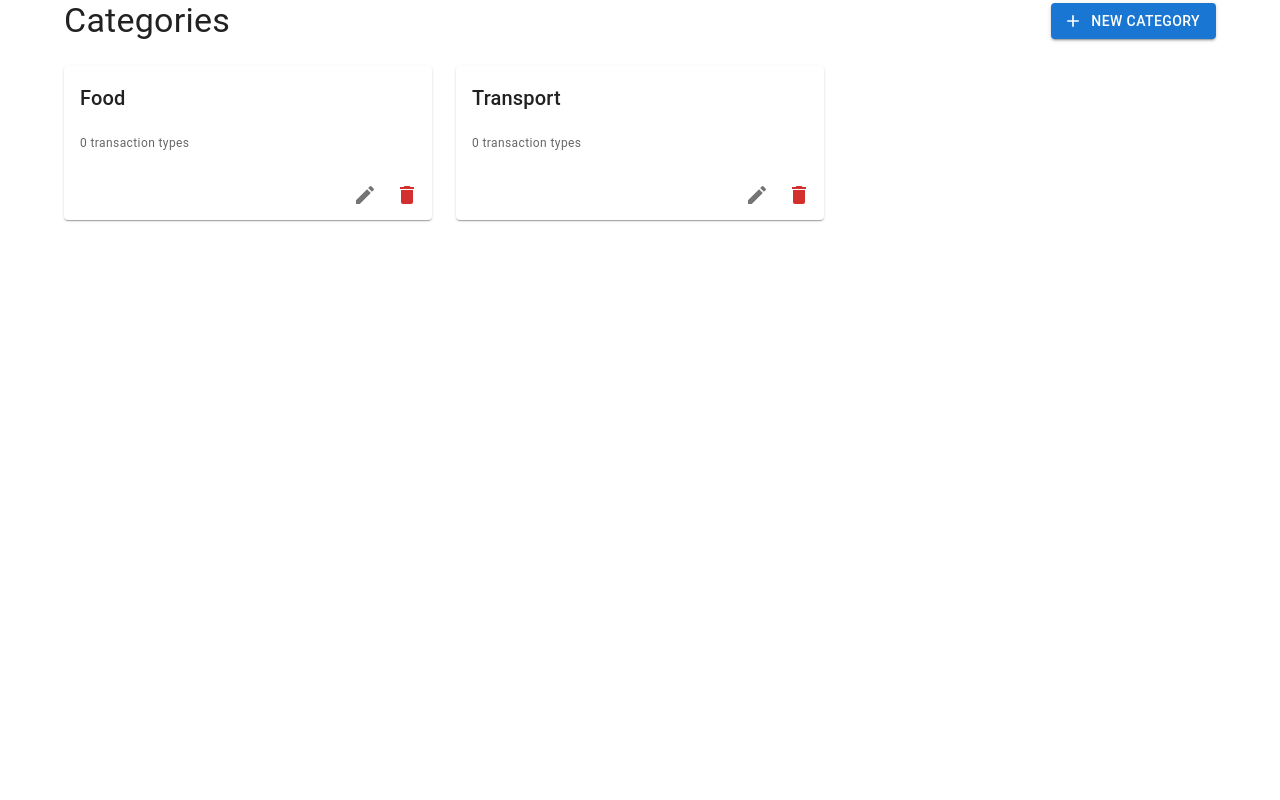
Test: CategoriesListPage › should open category dialog when New Category clicked
The width and height of the screenshot is (1280, 800).
Click the button "New Category" at (1134, 21), box [1051,3,1216,39]
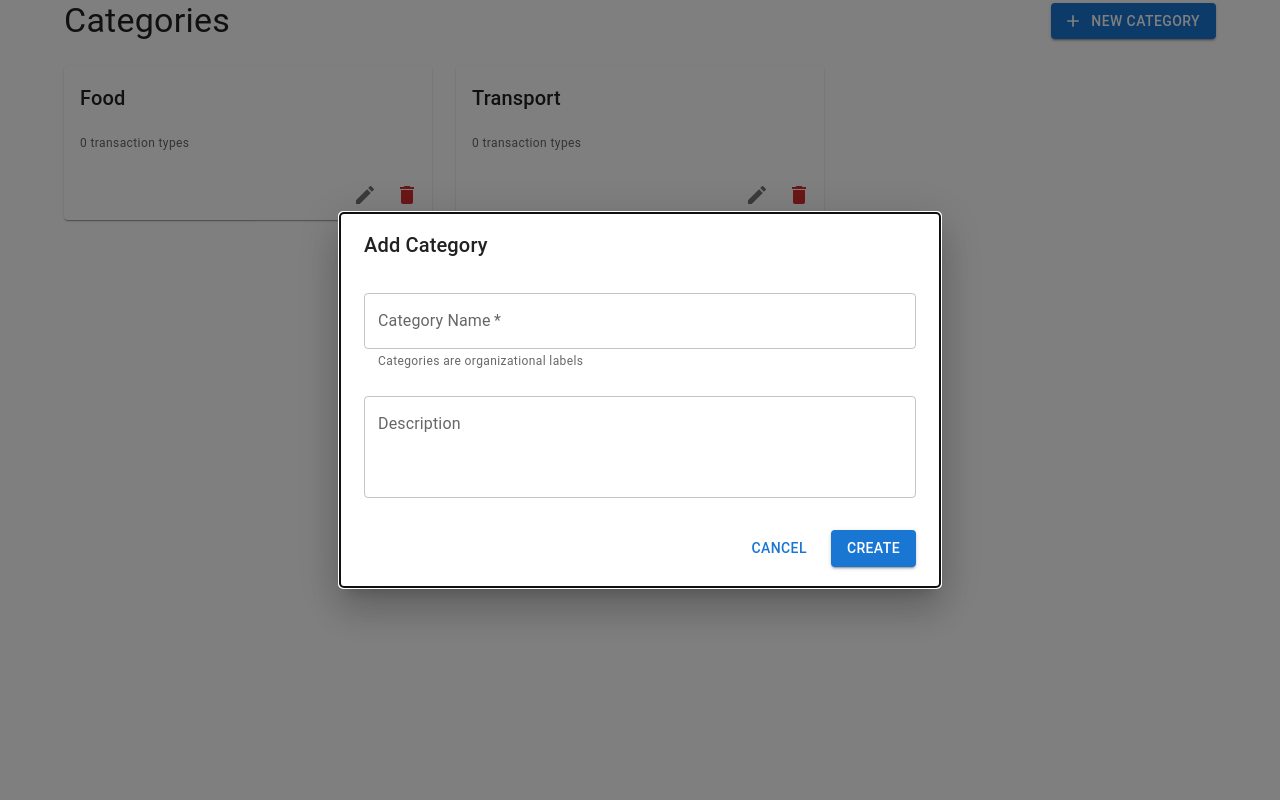
Expected: the dialog is shown, [340,213,940,587]
